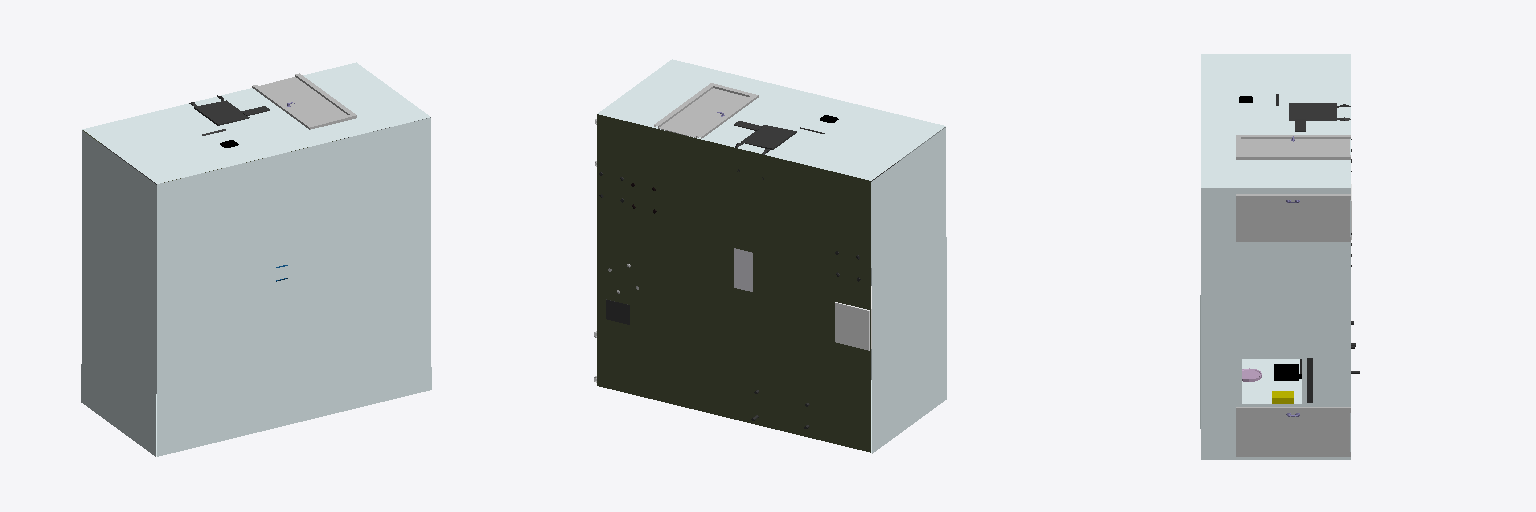
Rendered from operatingRoom.obj.
3 views of the same model, side by side, from view 1: azimuth 30°, elevation 25°; view 2: azimuth 150°, elevation 25°; view 3: azimuth 270°, elevation 25° (orthographic).
Parts seen in each view (by area): view 1: Top_Face, Right_Face, Front_Face, Door, DoorFrame, SM_Prop_ToolCabinet_01_-_Copy; view 2: Bottom_Face, Right_Face, Front_Face, Door, Cube.002, DoorFrame, SM_Prop_ToolCabinet_01_-_Copy, Cube; view 3: Left_Face, Front_Face, Door.002, Door.001, Door, Back_Face, DoorFrame.002, DoorFrame.001, DoorFrame, SM_Prop_ToolCabinet_01_-_Copy.
Boxes of the visible parts, x1=… form: Top_Face: x1=157, y1=118, x2=431, y2=456; Right_Face: x1=81, y1=130, x2=156, y2=456; Front_Face: x1=82, y1=62, x2=429, y2=183; Door: x1=260, y1=77, x2=346, y2=123; DoorFrame: x1=252, y1=73, x2=356, y2=129; SM_Prop_ToolCabinet_01_-_Copy: x1=189, y1=95, x2=249, y2=125; Bottom_Face: x1=597, y1=114, x2=870, y2=452; Right_Face: x1=871, y1=128, x2=946, y2=453; Front_Face: x1=598, y1=59, x2=945, y2=180; Door: x1=658, y1=88, x2=748, y2=137; Cube.002: x1=835, y1=286, x2=871, y2=350; DoorFrame: x1=654, y1=83, x2=758, y2=138; SM_Prop_ToolCabinet_01_-_Copy: x1=735, y1=125, x2=796, y2=179; Cube: x1=734, y1=248, x2=752, y2=291; Left_Face: x1=1201, y1=188, x2=1350, y2=459; Front_Face: x1=1201, y1=54, x2=1350, y2=187; Door.002: x1=1241, y1=413, x2=1349, y2=451; Door.001: x1=1241, y1=200, x2=1349, y2=236; Door: x1=1241, y1=139, x2=1349, y2=154; Back_Face: x1=1242, y1=359, x2=1301, y2=403; DoorFrame.002: x1=1236, y1=407, x2=1350, y2=456; DoorFrame.001: x1=1236, y1=194, x2=1350, y2=241; DoorFrame: x1=1236, y1=135, x2=1350, y2=159; SM_Prop_ToolCabinet_01_-_Copy: x1=1289, y1=103, x2=1350, y2=120.
Bounding box in the file's own units: 5.89 × 5.58 × 2.91.